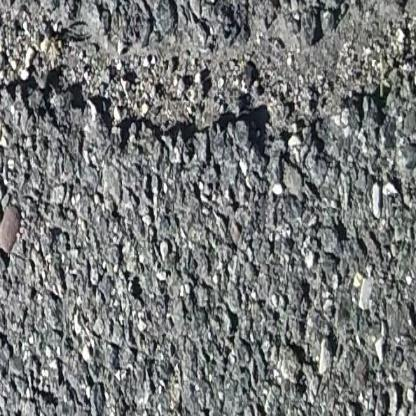Cracks: (0, 8, 416, 177)
